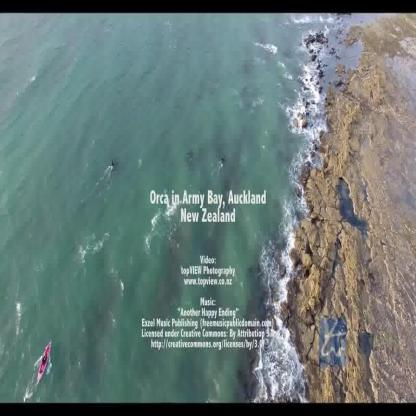Boat: (34, 335, 60, 380)
